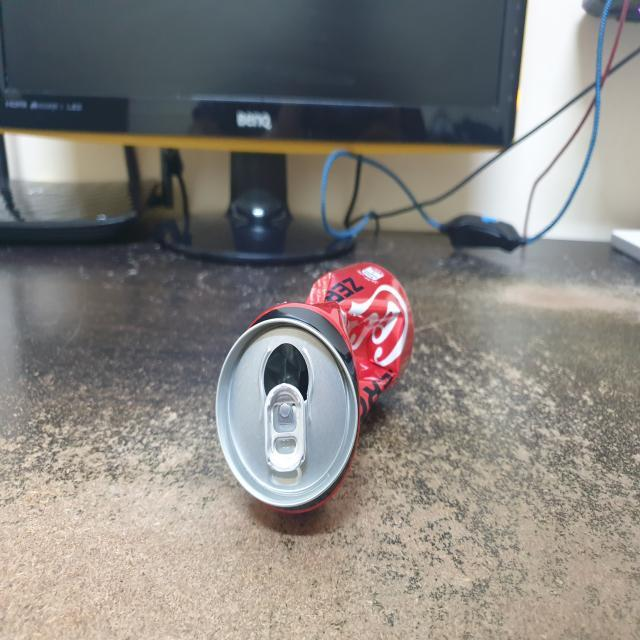can: (204, 234, 427, 521)
